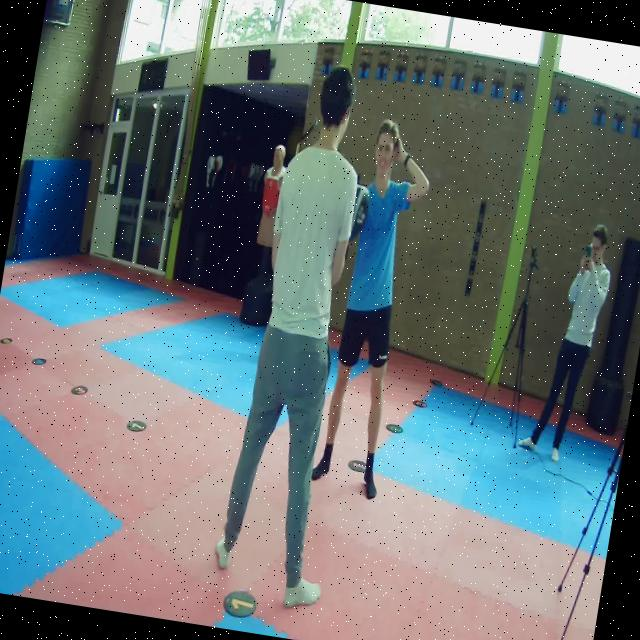paddle: (349, 185, 370, 242)
